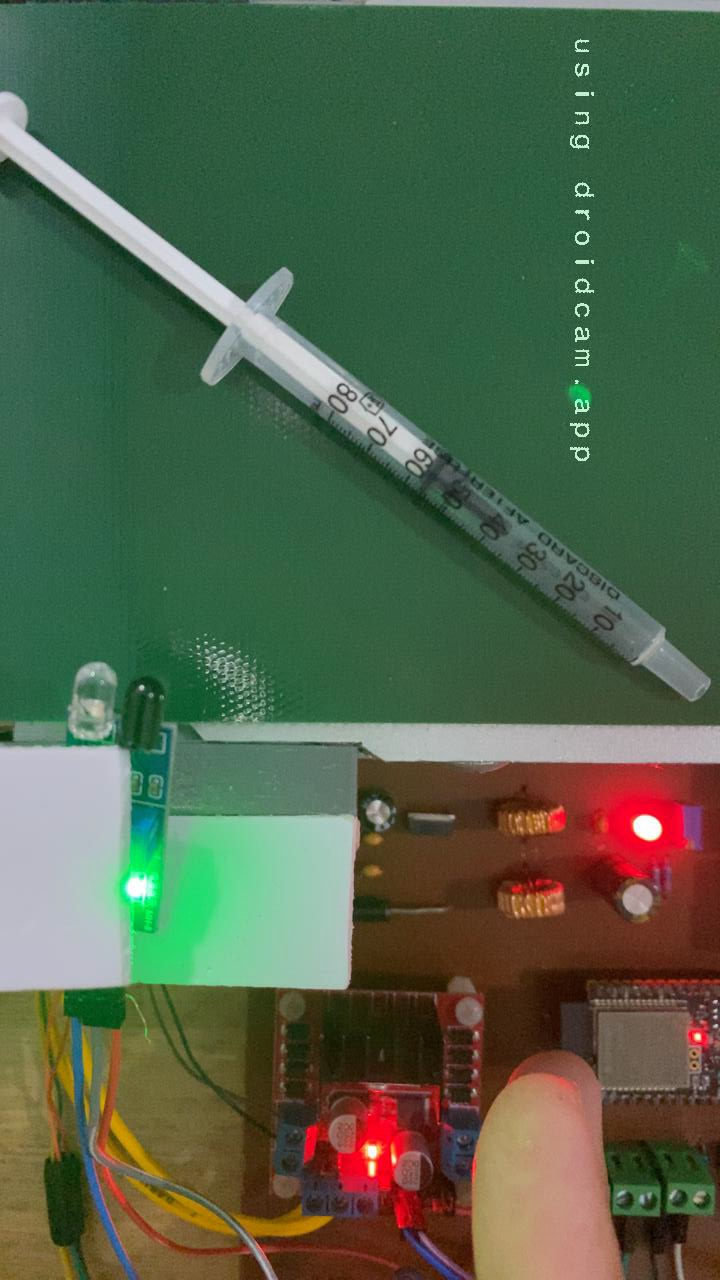syringe: (0, 84, 468, 489)
